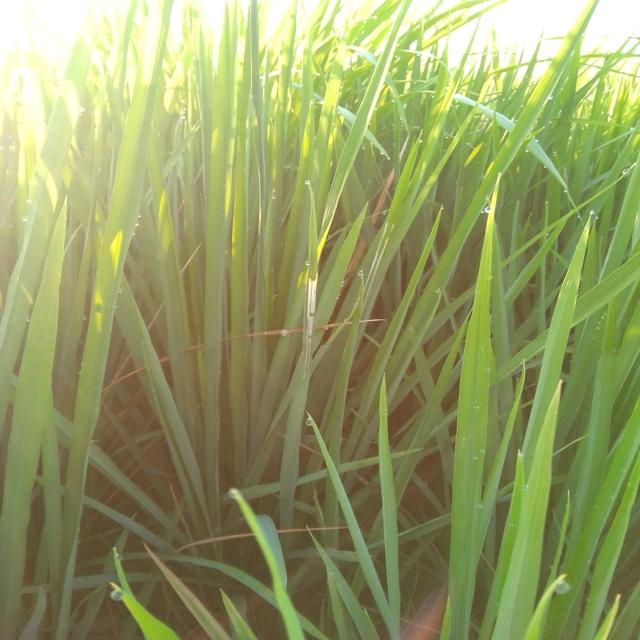Brown spot: (343, 134, 417, 294)
brown plant hopper: (296, 268, 324, 387)
